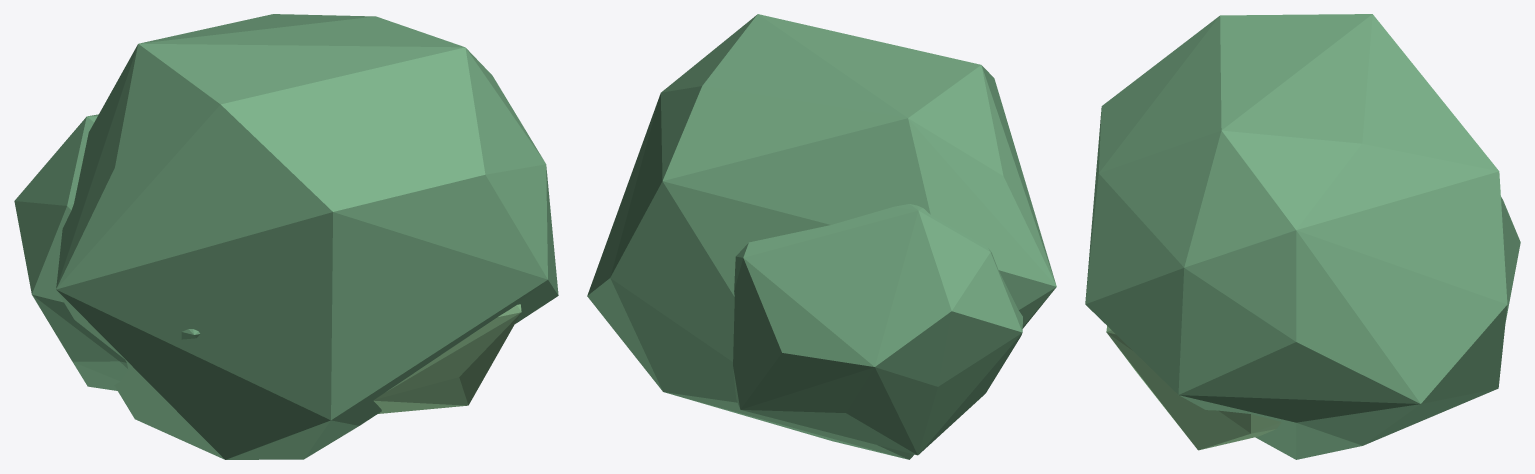
Rendered from bush_b.glb.
3 renders of one model, left to right at view 1: azimuth 30°, elevation 25°; view 2: azimuth 150°, elevation 25°; view 3: azimuth 270°, elevation 25°, orthographic. The views are drawn at different scales.
Parts seen in each view (by area): view 1: root_m2, root_m1, root_m0; view 2: root_m2, root_m1; view 3: root_m2, root_m0, root_m1.
Part boxes in pixels (x1=…): root_m2: x1=56, y1=14, x2=558, y2=459; root_m1: x1=14, y1=114, x2=199, y2=390; root_m0: x1=373, y1=304, x2=521, y2=413; root_m2: x1=587, y1=14, x2=1056, y2=459; root_m1: x1=733, y1=204, x2=1022, y2=455; root_m2: x1=1085, y1=14, x2=1507, y2=459; root_m0: x1=1106, y1=326, x2=1281, y2=450; root_m1: x1=1501, y1=197, x2=1520, y2=321.
Bounding box in the file's own units: 0.6209 × 0.5354 × 0.5431.
